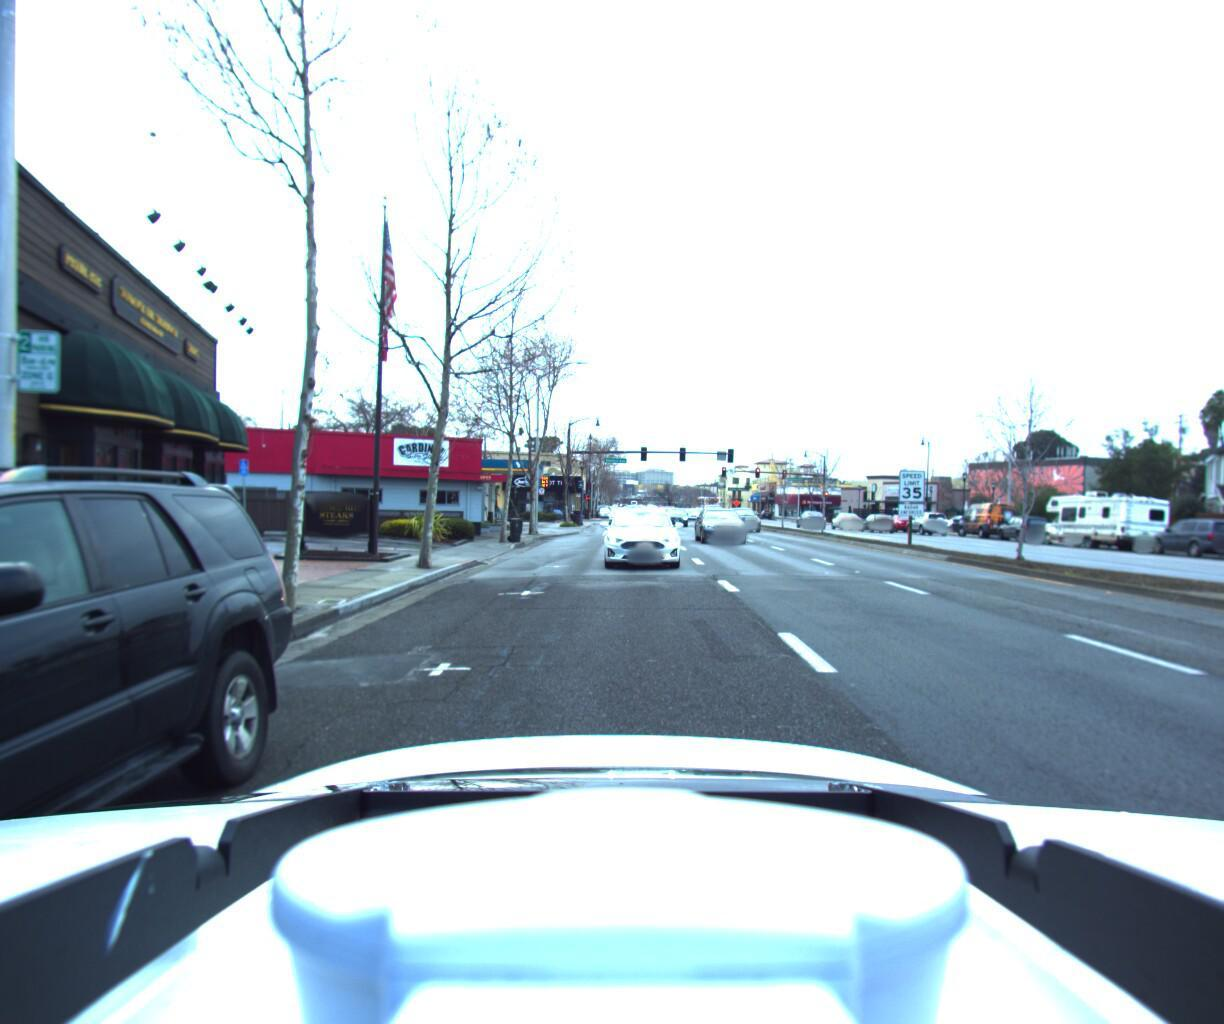car: (0, 438, 315, 1024), (598, 503, 684, 575), (1136, 514, 1224, 562), (692, 508, 756, 551), (950, 500, 1016, 539), (991, 513, 1052, 545), (903, 509, 955, 535), (854, 513, 895, 533), (824, 510, 864, 530), (791, 509, 825, 529), (606, 506, 629, 526), (684, 510, 705, 526)
other_vehicle: (1033, 487, 1175, 553)
